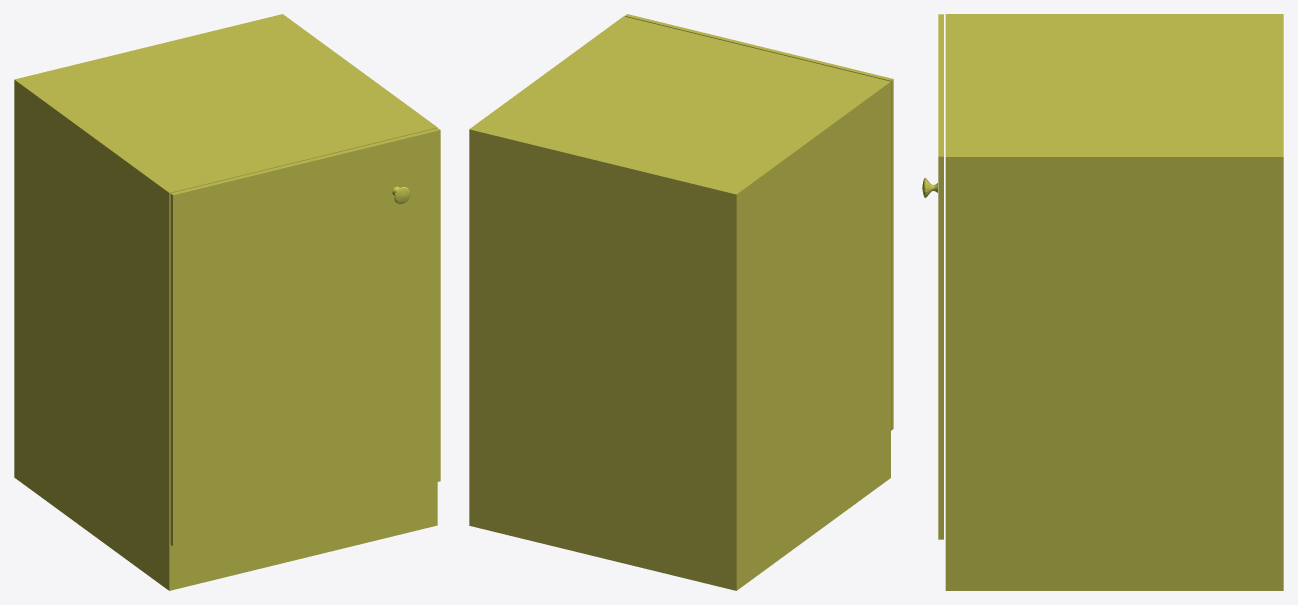
The model's file is eteks-kitchencabinet.glb.
The picture shows the model from 3 angles, left to right: view 1: azimuth 30°, elevation 25°; view 2: azimuth 150°, elevation 25°; view 3: azimuth 270°, elevation 25°; orthographic projection. The views are drawn at different scales.
Visible parts, largest first — view 1: Corps, sweethome3d_opening_on_hinge_1_door; view 2: Corps, sweethome3d_opening_on_hinge_1_door; view 3: Corps, sweethome3d_opening_on_hinge_1_door.
Part boxes in pixels (bbox=[...]): Corps: bbox=[14, 14, 437, 590]; sweethome3d_opening_on_hinge_1_door: bbox=[170, 128, 440, 546]; Corps: bbox=[469, 16, 890, 590]; sweethome3d_opening_on_hinge_1_door: bbox=[624, 14, 893, 430]; Corps: bbox=[945, 14, 1283, 590]; sweethome3d_opening_on_hinge_1_door: bbox=[938, 14, 943, 539].
Bounding box in the file's own units: 60 × 85 × 64.14.
